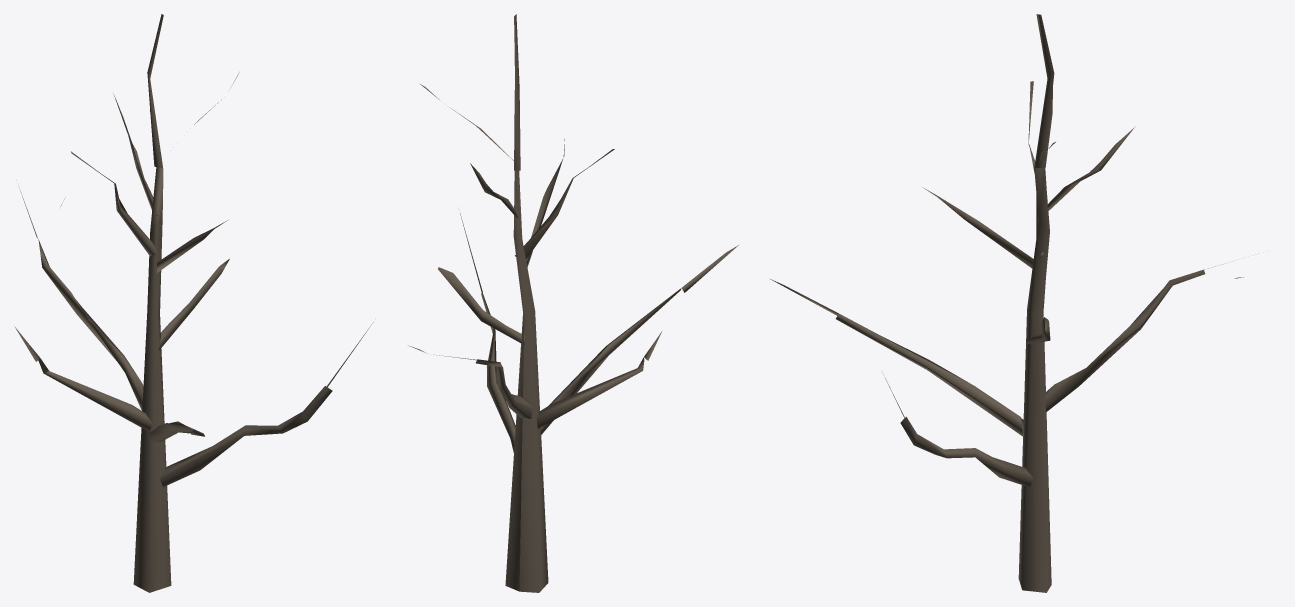
File: erable_mort_l1.glb
The picture shows the model from 3 angles, left to right: view 1: azimuth 30°, elevation 25°; view 2: azimuth 150°, elevation 25°; view 3: azimuth 270°, elevation 25°; orthographic projection.
Parts seen in each view (by area): view 1: Acer_large_3_LOD2; view 2: Acer_large_3_LOD2; view 3: Acer_large_3_LOD2.
Part boxes in pixels (box(x1,y1,x2,y2)): Acer_large_3_LOD2: box(15, 14, 373, 592); Acer_large_3_LOD2: box(408, 14, 738, 592); Acer_large_3_LOD2: box(770, 14, 1243, 592).
Bounding box in the file's own units: 8.41 × 16 × 12.9.
